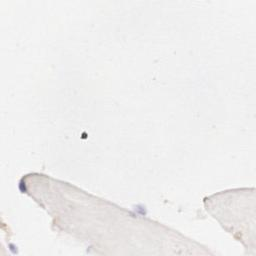nucleus: (131, 201, 146, 216), (17, 178, 26, 193), (8, 243, 19, 254)
